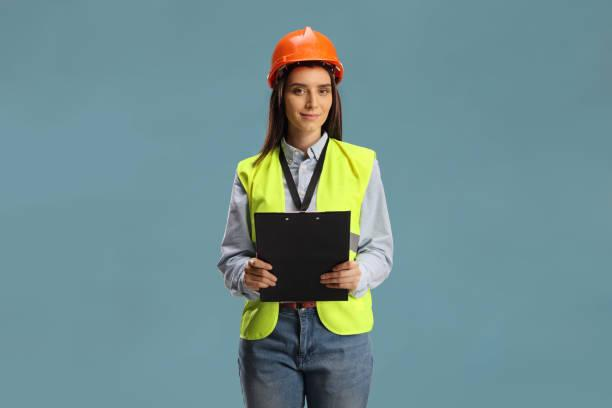capacete: (266, 27, 350, 77)
pessoa: (220, 26, 385, 393)
uniforme seguranca: (234, 144, 389, 337)
